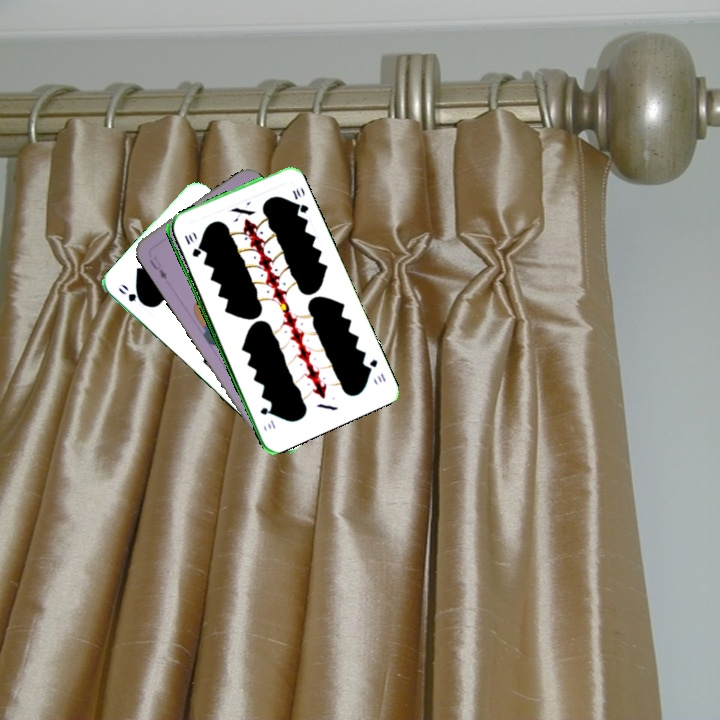EU: (145, 252, 169, 282)
G10: (362, 355, 388, 385), (180, 231, 201, 260)
GO: (114, 280, 150, 309)
